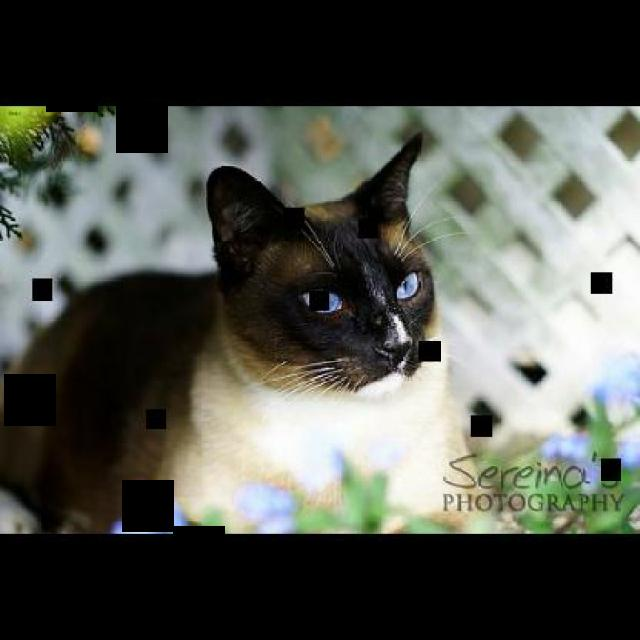unauthorized: (0, 129, 485, 534)
